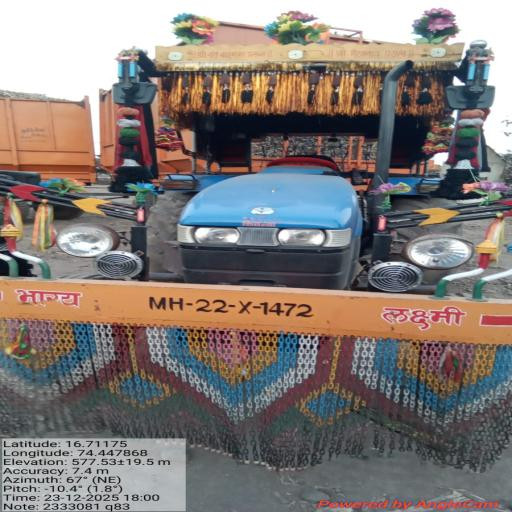number_plate: (125, 284, 340, 330)
